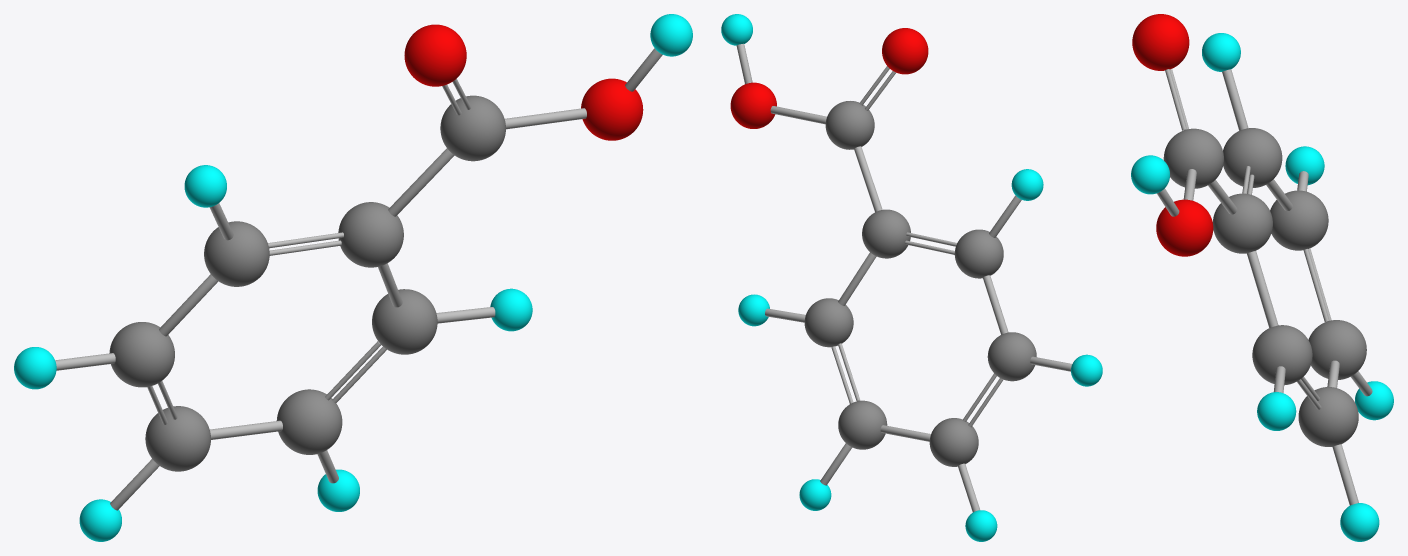
File: benzoic acid.glb
3 views of the same model, side by side, from view 1: azimuth 30°, elevation 25°; view 2: azimuth 150°, elevation 25°; view 3: azimuth 270°, elevation 25° (orthographic). The views are drawn at different scales.
Parts seen in each view (by area): view 1: CMAtom_2, CMAtom_7, CMAtom_6, CMAtom_3, CMAtom_8, CMAtom_5, CMAtom_4, CMAtom_1, CMAtom_0, CMAtom_14, CMAtom_9, CMAtom_11 (+7 smaller); view 2: CMAtom_4, CMAtom_3, CMAtom_5, CMAtom_8, CMAtom_2, CMAtom_7, CMAtom_6, CMAtom_1, CMAtom_0, CMAtom_9, CMAtom_13, CMAtom_11 (+7 smaller); view 3: CMAtom_7, CMAtom_2, CMAtom_5, CMAtom_4, CMAtom_3, CMAtom_6, CMAtom_8, CMAtom_1, CMAtom_0, CMAtom_14, CMAtom_10, CMAtom_12 (+10 smaller).
Part boxes in pixels (x1=…): CMAtom_2: x1=338, y1=202, x2=403, y2=267; CMAtom_7: x1=276, y1=389, x2=342, y2=454; CMAtom_6: x1=109, y1=322, x2=174, y2=387; CMAtom_3: x1=440, y1=95, x2=505, y2=161; CMAtom_8: x1=145, y1=406, x2=210, y2=471; CMAtom_5: x1=372, y1=289, x2=437, y2=354; CMAtom_4: x1=204, y1=221, x2=269, y2=286; CMAtom_1: x1=404, y1=24, x2=466, y2=86; CMAtom_0: x1=581, y1=78, x2=643, y2=140; CMAtom_14: x1=650, y1=14, x2=692, y2=56; CMAtom_9: x1=184, y1=165, x2=226, y2=207; CMAtom_11: x1=14, y1=347, x2=56, y2=389; CMAtom_4: x1=954, y1=229, x2=1003, y2=278; CMAtom_3: x1=825, y1=101, x2=874, y2=149; CMAtom_5: x1=804, y1=298, x2=853, y2=347; CMAtom_8: x1=929, y1=418, x2=978, y2=466; CMAtom_2: x1=862, y1=209, x2=910, y2=258; CMAtom_7: x1=838, y1=400, x2=887, y2=449; CMAtom_6: x1=987, y1=332, x2=1036, y2=381; CMAtom_1: x1=882, y1=28, x2=928, y2=74; CMAtom_0: x1=730, y1=82, x2=776, y2=128; CMAtom_9: x1=1011, y1=169, x2=1043, y2=200; CMAtom_13: x1=965, y1=510, x2=997, y2=541; CMAtom_11: x1=1071, y1=354, x2=1102, y2=386; CMAtom_7: x1=1298, y1=387, x2=1358, y2=446; CMAtom_2: x1=1212, y1=193, x2=1272, y2=253; CMAtom_5: x1=1252, y1=325, x2=1312, y2=385; CMAtom_4: x1=1223, y1=128, x2=1282, y2=187; CMAtom_3: x1=1163, y1=128, x2=1223, y2=188; CMAtom_6: x1=1270, y1=190, x2=1328, y2=250; CMAtom_8: x1=1308, y1=320, x2=1366, y2=379; CMAtom_1: x1=1132, y1=14, x2=1189, y2=70; CMAtom_0: x1=1156, y1=199, x2=1213, y2=256; CMAtom_14: x1=1131, y1=155, x2=1169, y2=194; CMAtom_10: x1=1257, y1=392, x2=1296, y2=430; CMAtom_12: x1=1340, y1=503, x2=1379, y2=541.
Size of the model in its own units: 6.38 by 5.85 by 2.69.
